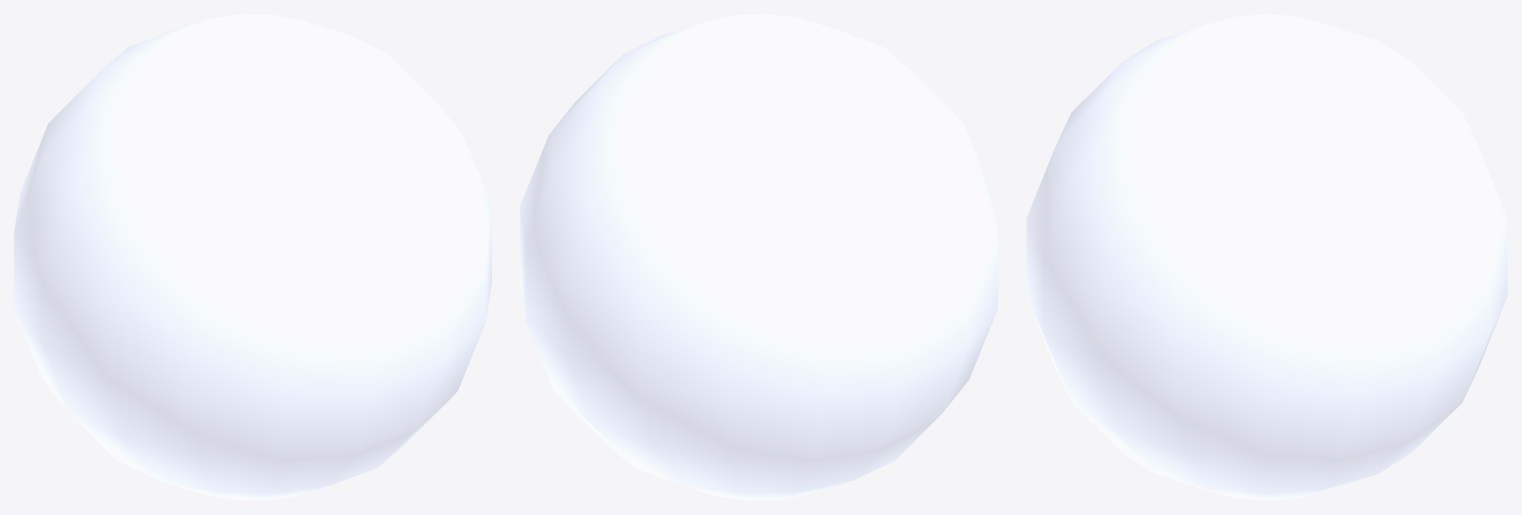
The model's file is marble-high-col.glb.
3 views of the same model, side by side, from view 1: azimuth 30°, elevation 25°; view 2: azimuth 150°, elevation 25°; view 3: azimuth 270°, elevation 25° (orthographic).
Parts seen in each view (by area): view 1: marble-high-col; view 2: marble-high-col; view 3: marble-high-col.
Boxes of the visible parts, x1,y1,x2,y2 form: marble-high-col: (14, 14, 491, 500); marble-high-col: (520, 14, 997, 500); marble-high-col: (1026, 14, 1507, 500).
Size of the model in its own units: 0.3939 by 0.4 by 0.3939.
